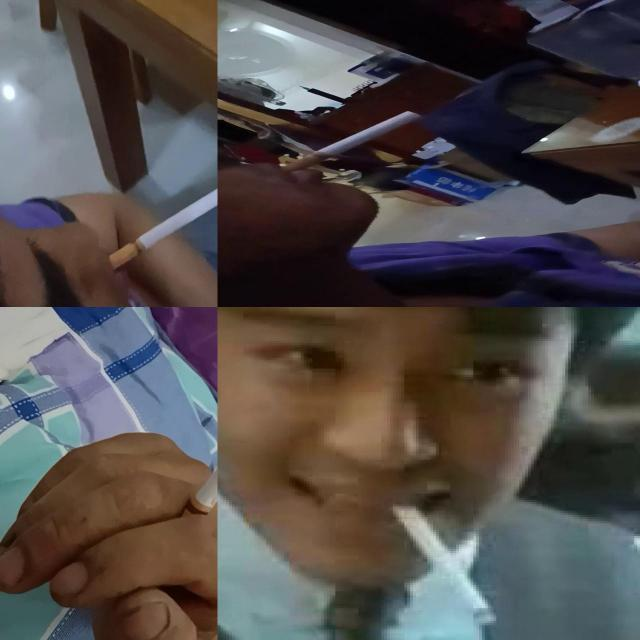smoke: (384, 494, 500, 626), (109, 184, 218, 272), (280, 110, 426, 173), (172, 407, 218, 535)
